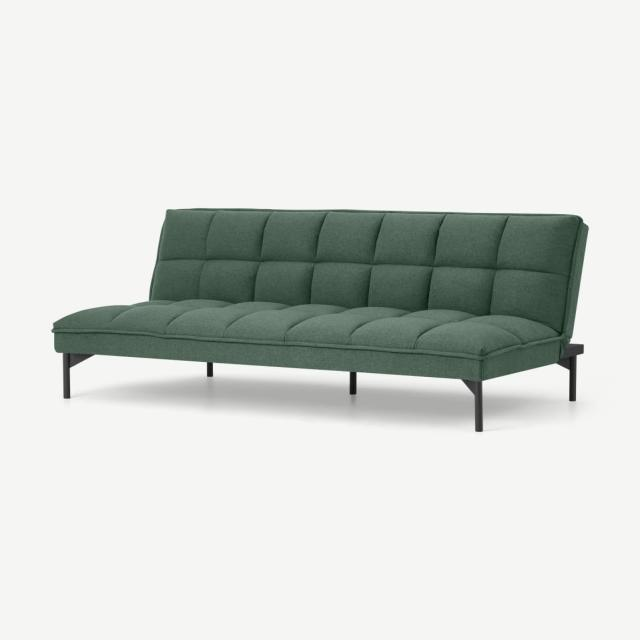back_cushion: (149, 209, 587, 340)
legs: (61, 353, 95, 399), (557, 343, 583, 401), (460, 379, 483, 432), (349, 371, 356, 395), (206, 361, 213, 377)
seat_cushion: (53, 299, 559, 357)
stallion-sofa: (0, 0, 639, 639)
